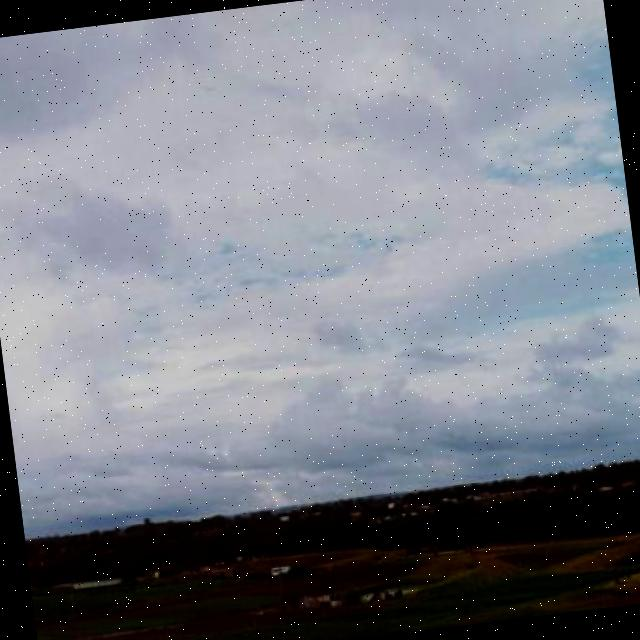Cs: (1, 10, 640, 474)
